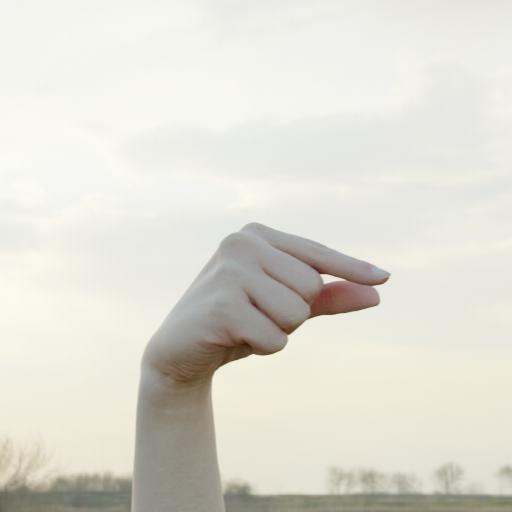G: (139, 220, 394, 372)
